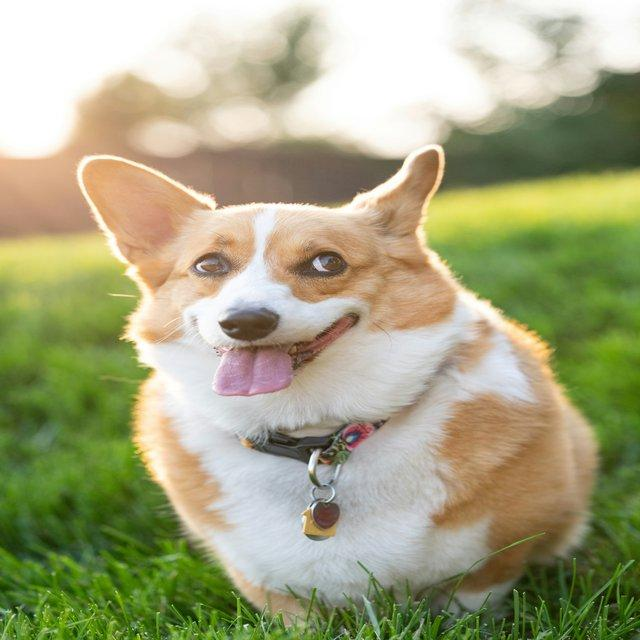corgi: (75, 143, 601, 634)
